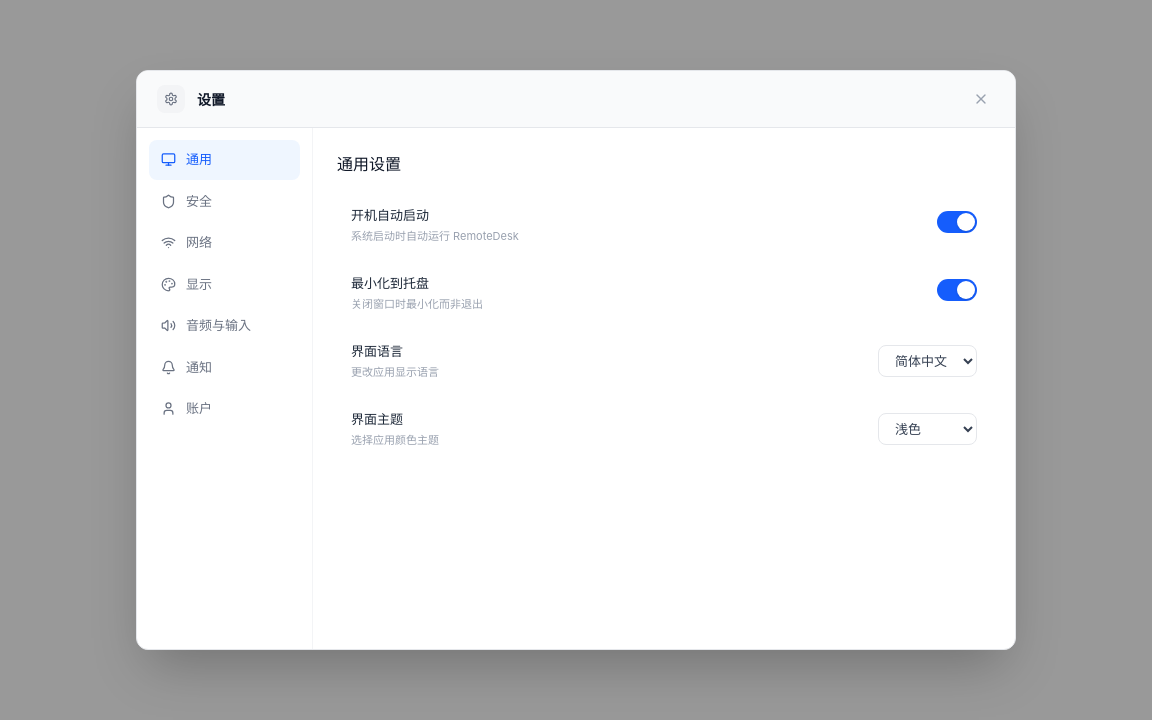
Test: SettingsModal - Page Level Tests › user interactions › switches between sections
Expected: the heading "设置" is shown, top-left (197, 90), bottom-right (225, 108)
Click on security section
What coordinates should you click on to do the following:
click the button "安全"
I would click on:
 (224, 201)
Its box is top-left (149, 182), bottom-right (300, 221).
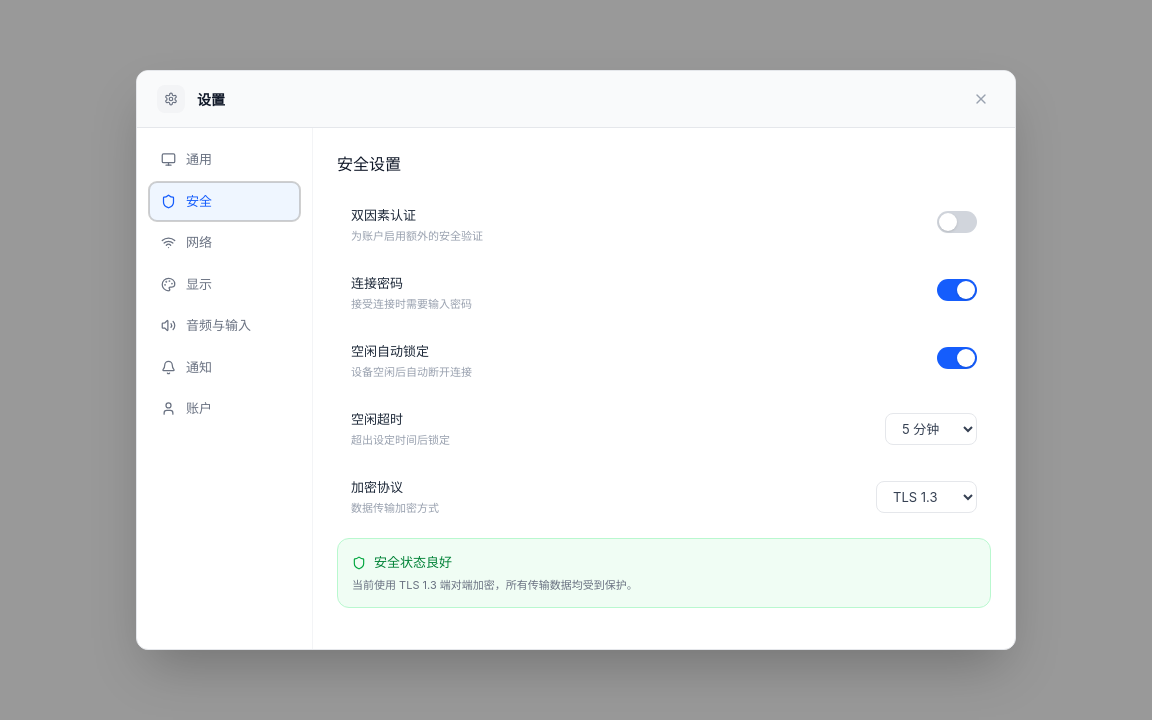
Now the heading "安全设置" is shown, box top-left (337, 154), bottom-right (401, 174)
Click on display section
What coordinates should you click on to do the following:
click the button "显示"
I would click on:
 (224, 284)
Its box is top-left (149, 264), bottom-right (300, 304).
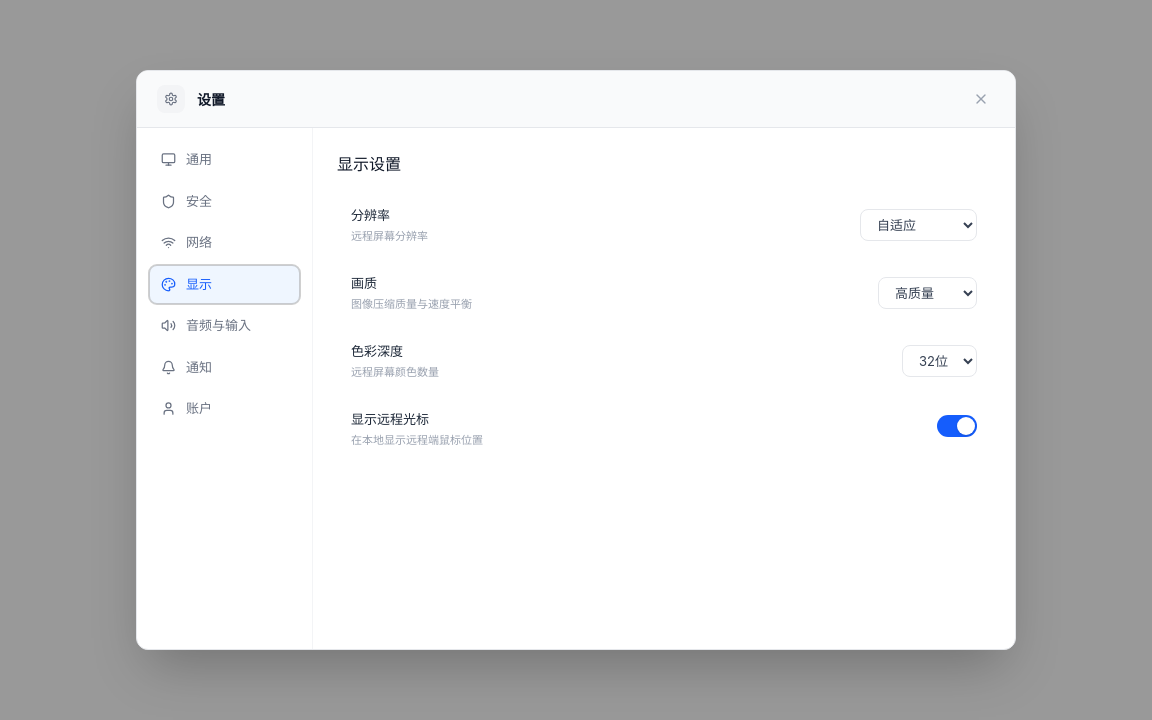
Now the heading "显示设置" is shown, box top-left (337, 154), bottom-right (401, 174)
